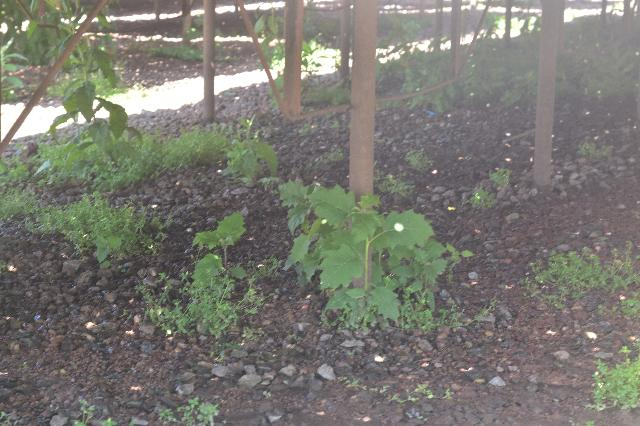MalezaMontesDelPlata: (276, 175, 454, 337), (28, 1, 150, 169), (37, 192, 174, 262), (132, 276, 264, 345), (534, 231, 639, 309), (221, 114, 280, 188), (585, 342, 640, 420), (190, 207, 251, 273), (149, 126, 227, 172), (463, 164, 517, 213)
